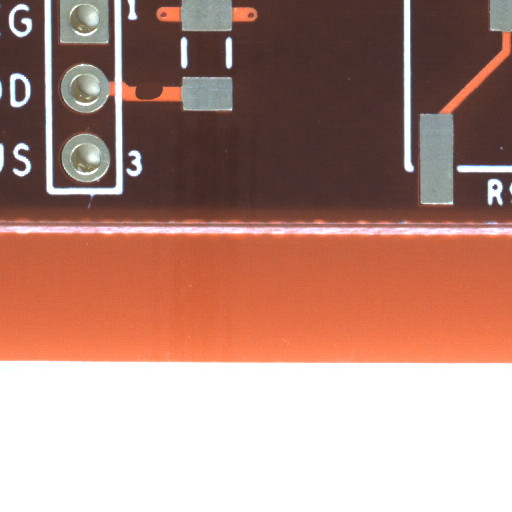Mouse_bite: (149, 91, 182, 117)
